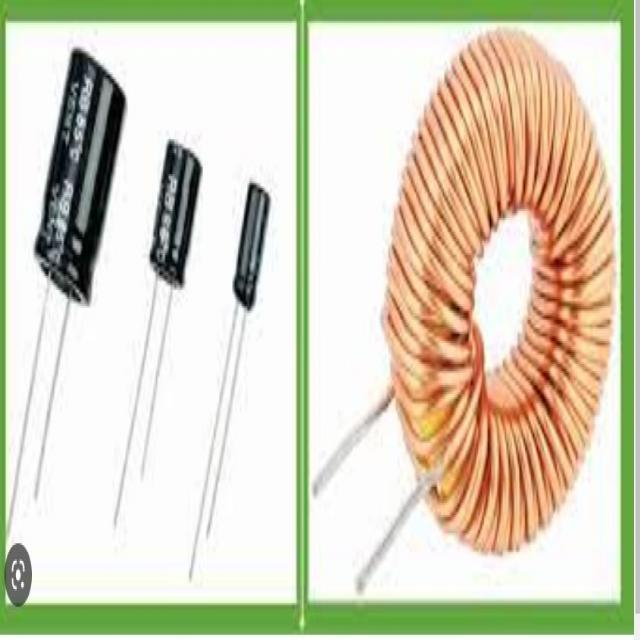Capacitor: (34, 49, 125, 498), (189, 182, 270, 578), (142, 140, 201, 459)
Inductor: (312, 31, 614, 592)
